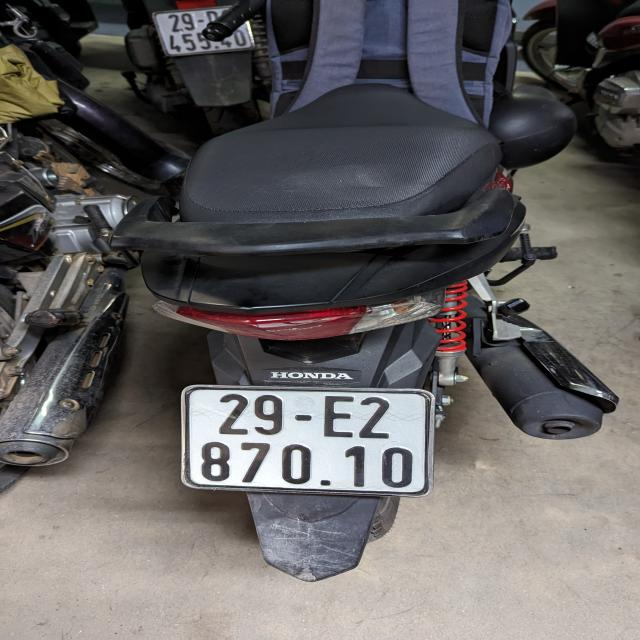License: (179, 384, 435, 498)
